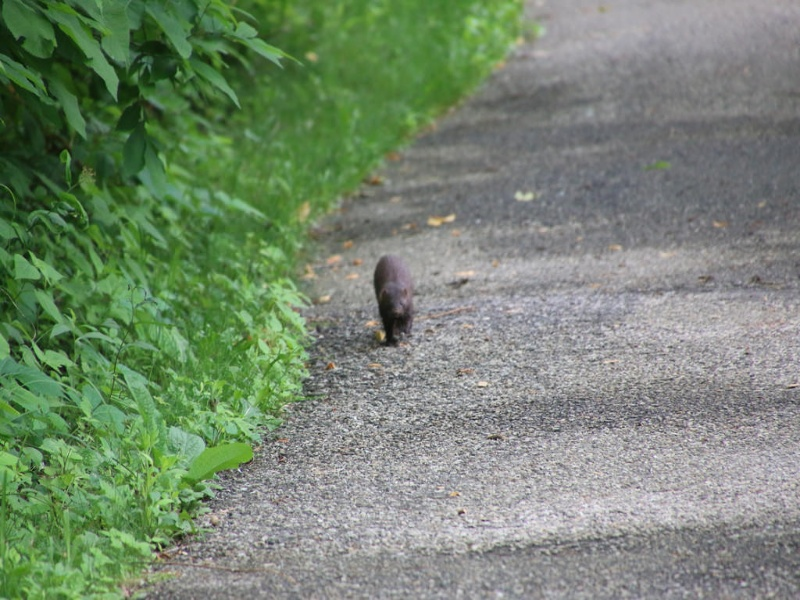minkish: (370, 252, 417, 348)
